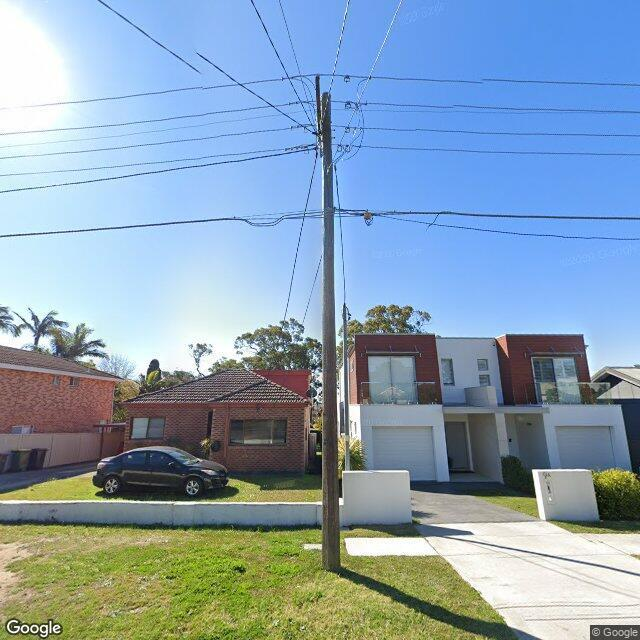crossarm: (314, 74, 322, 150)
timber-pole: (320, 91, 341, 572)
